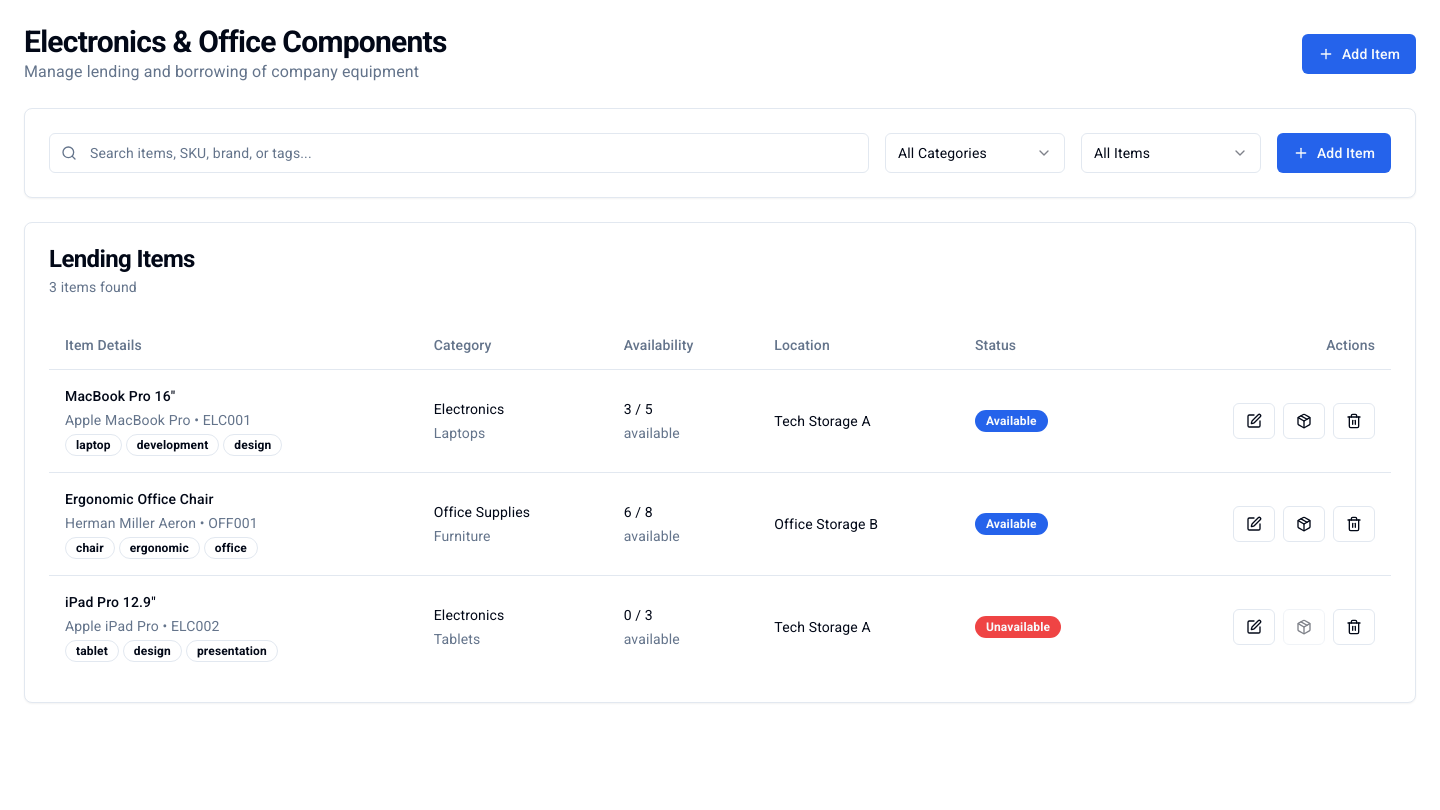
Test: LendingSystemPage › opens edit dialog when edit button is clicked
Click the button named "Edit" in the row of "Apple MacBook Pro •" at coordinates (1254, 420), box [1233,402,1275,438]
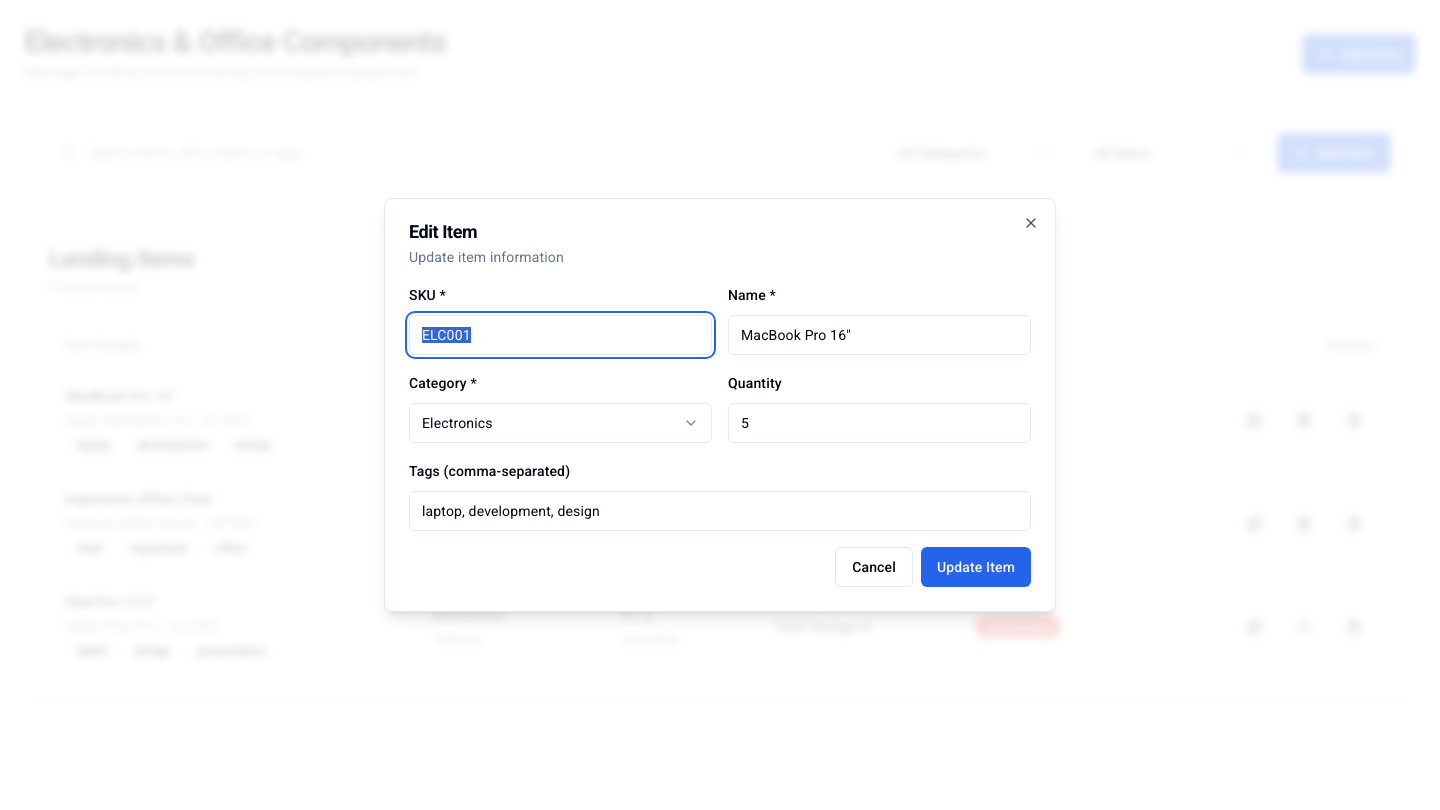
Check: the heading "Edit Item" is shown, box [409,221,477,242]
